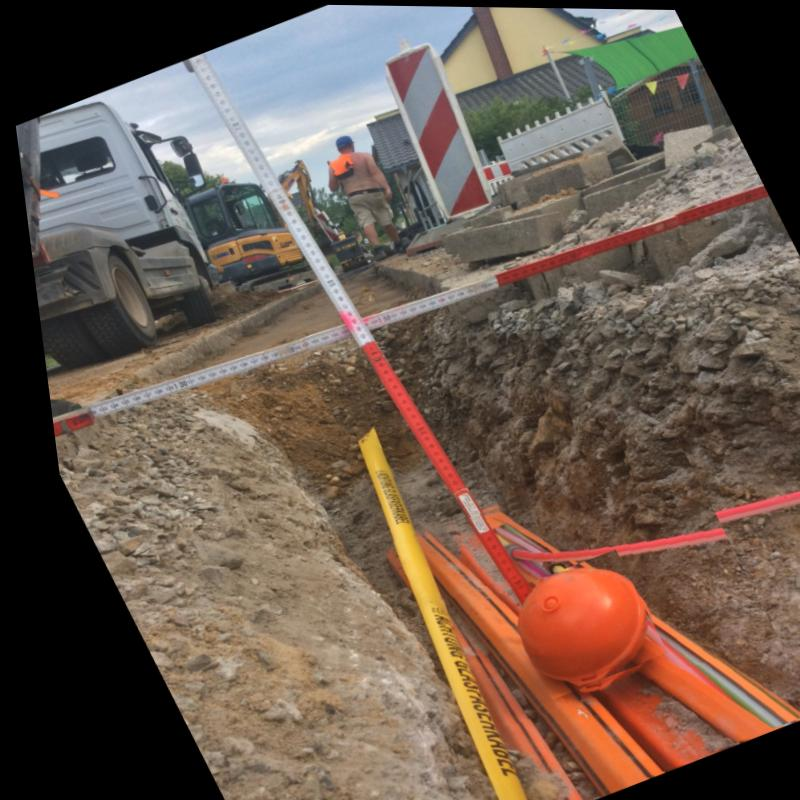Kugelmarker: (495, 567, 629, 680)
Orang-Speednetrohrchen: (381, 500, 792, 800)
